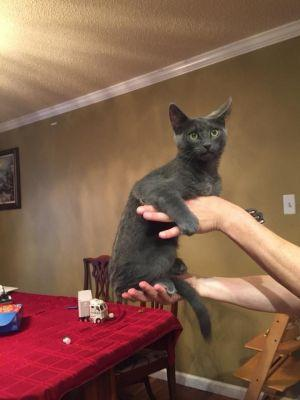rblue: (164, 88, 239, 173)
